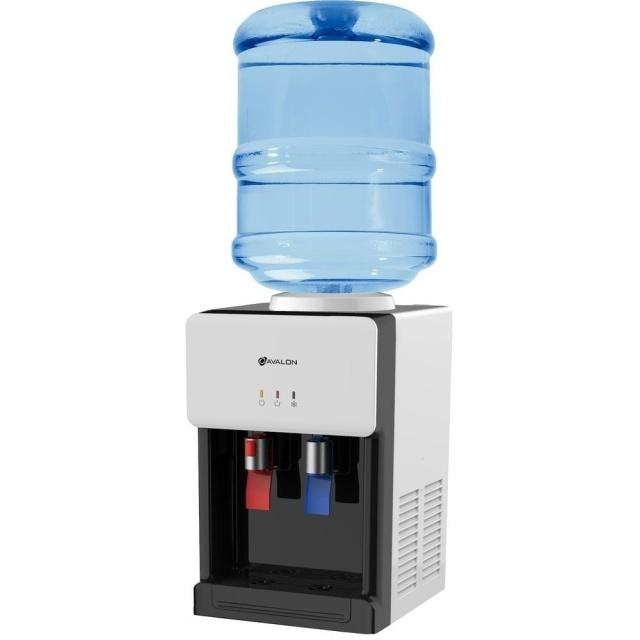Dispenser: (186, 0, 452, 634)
